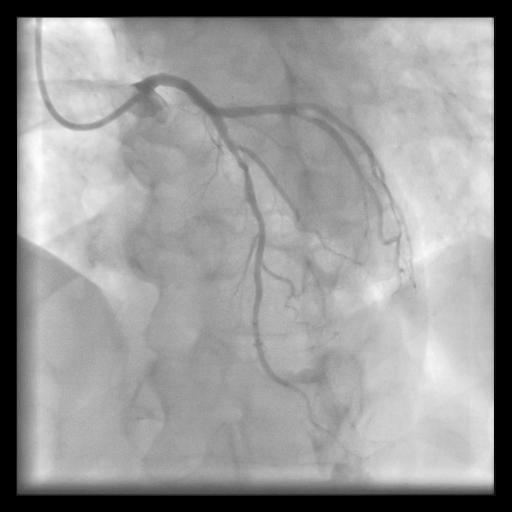Stenosis: (232, 152, 254, 200)
